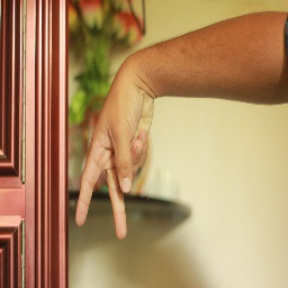Y: (69, 87, 152, 239)
